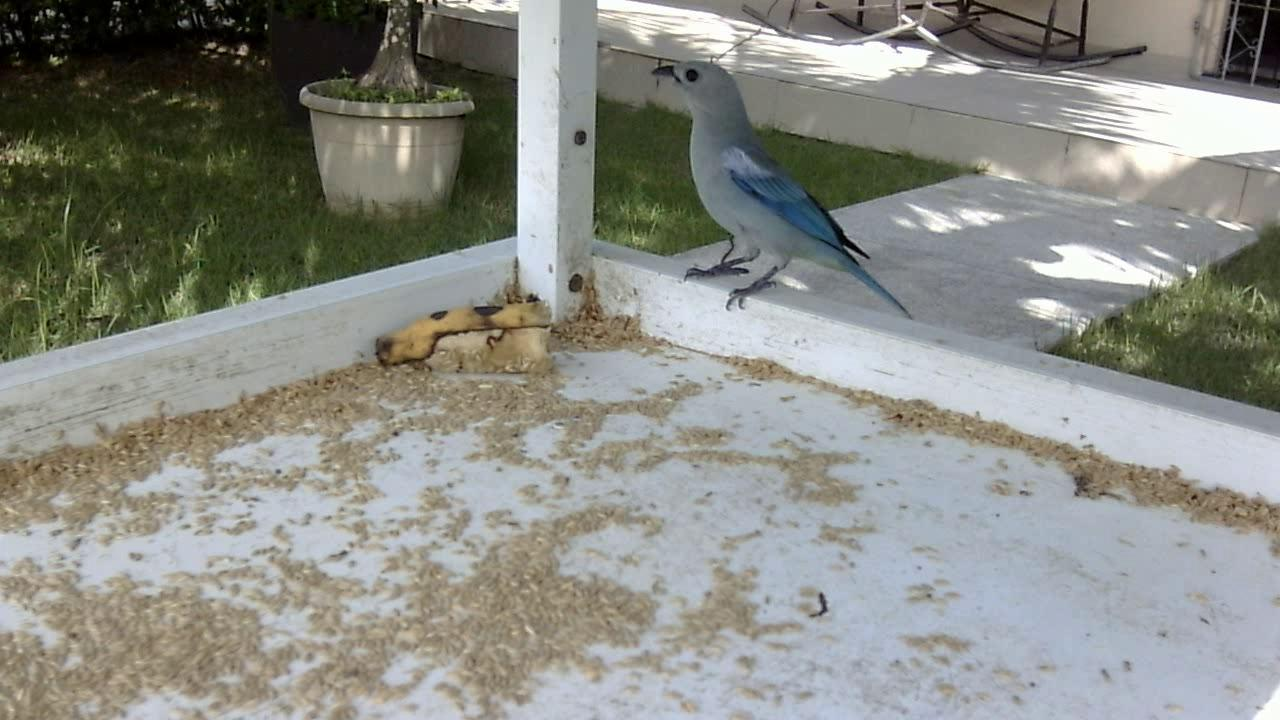sanhaco_da_amazonia: (636, 51, 931, 337)
